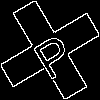P: (25, 25, 78, 82)
